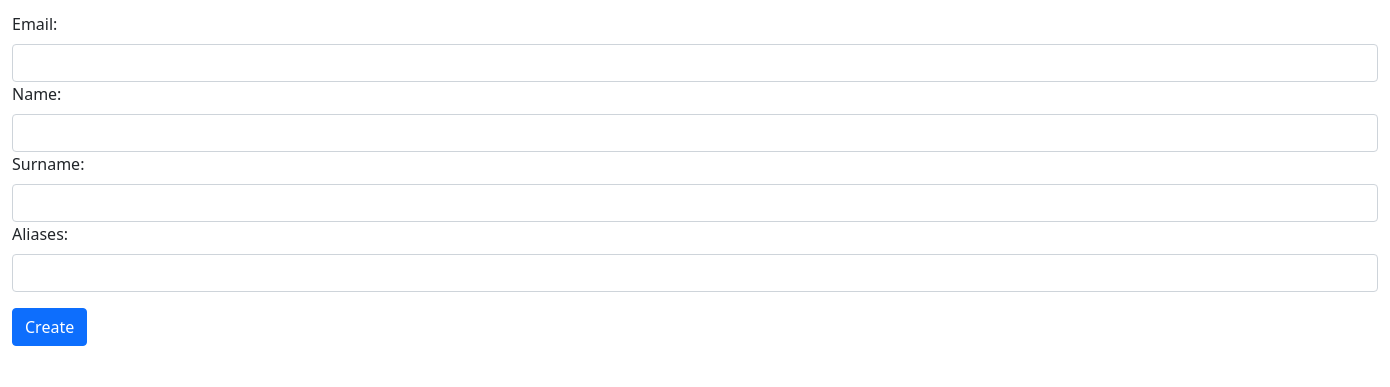
Test case: AppEmailAdd › submit email
Type "test-aa" into the field with test id "email-add-mail". click: (695, 63)
box: [12, 44, 1378, 82]
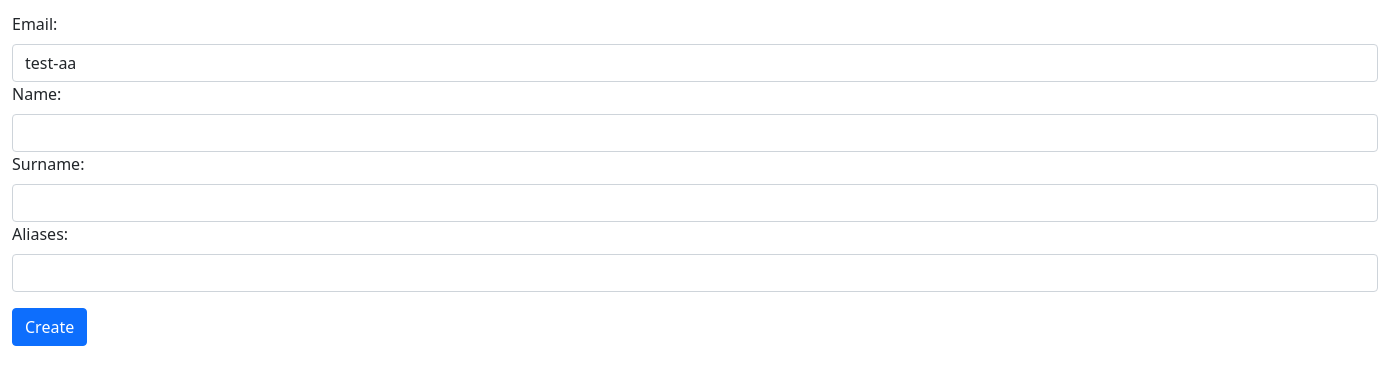
Type "test-aa" into the field with test id "email-add-cn". click: (695, 133)
box: [12, 114, 1378, 152]
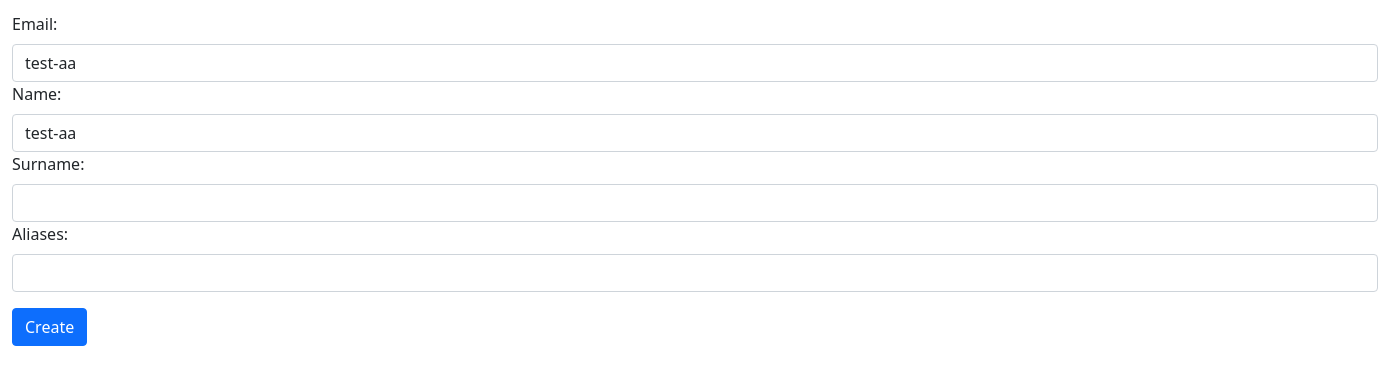
Type "test-aa" into the field with test id "email-add-sn". click: (695, 203)
box: [12, 184, 1378, 222]
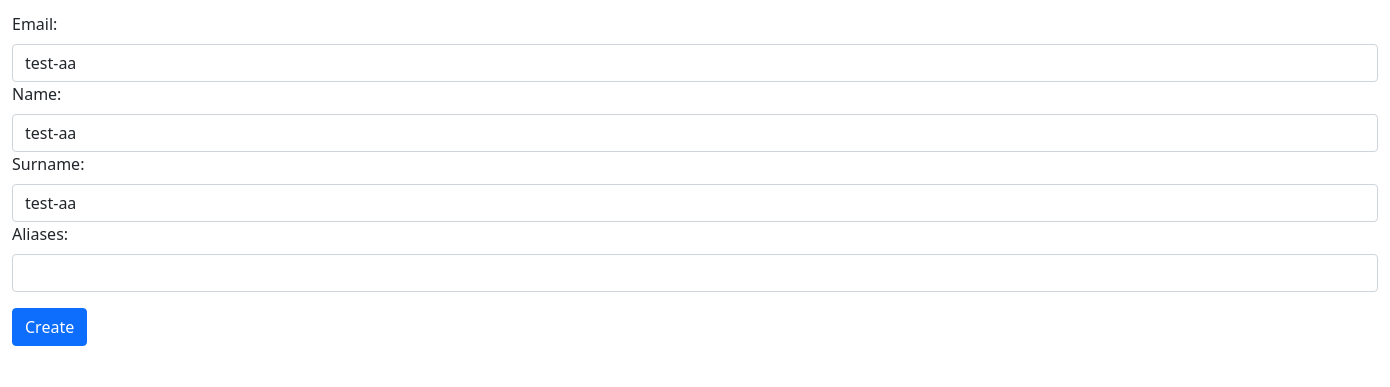
Click the button "Create". click: (50, 327)
box: [12, 308, 87, 346]
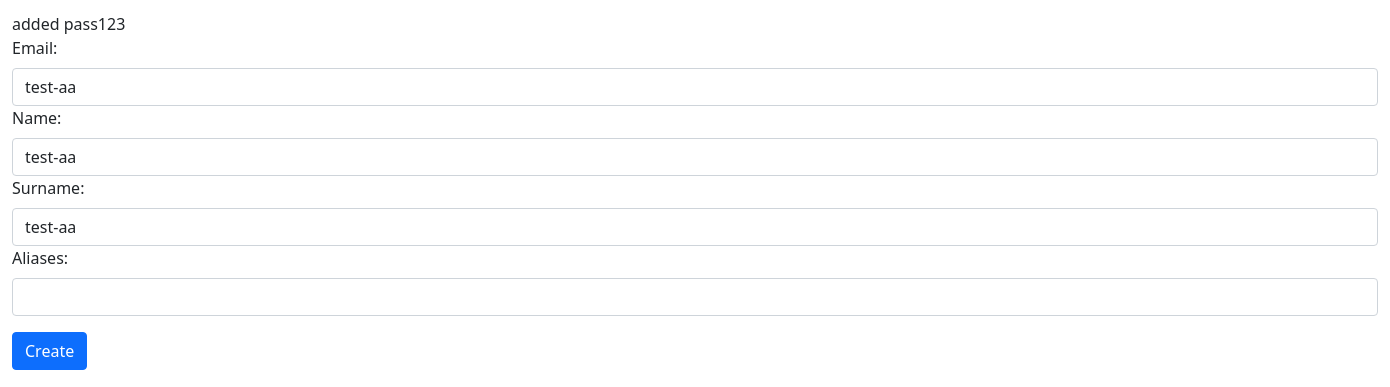
Result: the text with test id "email-add-message" shows "added" at [12, 13, 125, 35]
Result: the text with test id "email-add-message" shows "pass123" at [12, 13, 125, 35]
